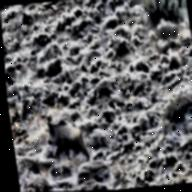boar: (43, 107, 86, 162)
